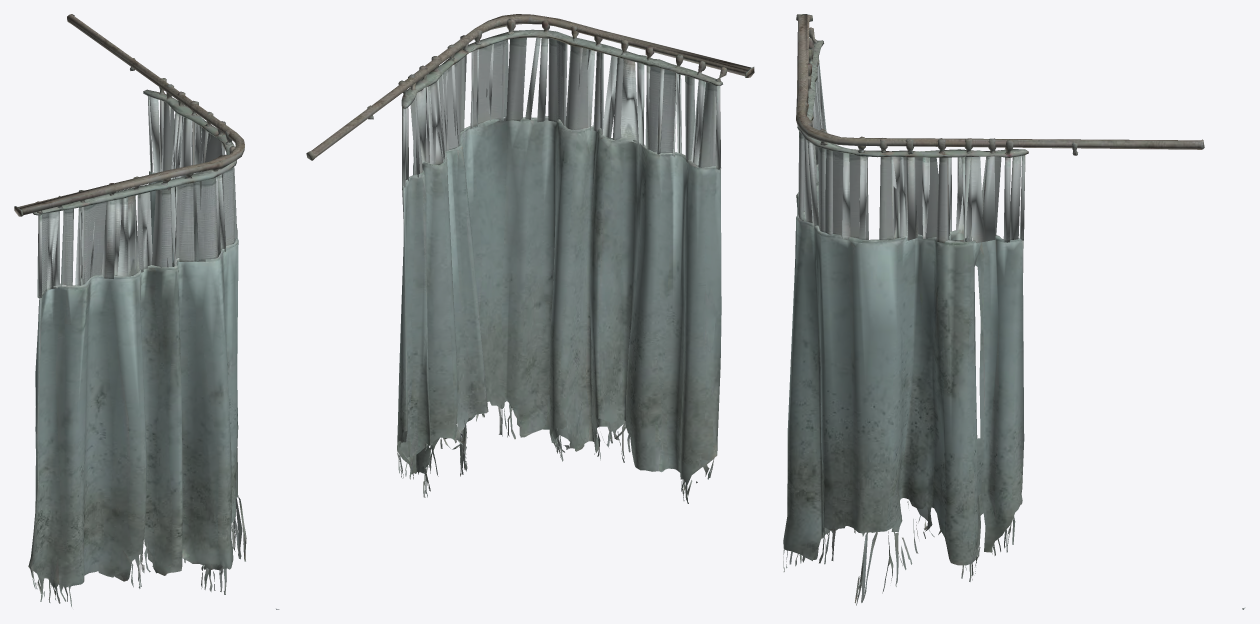
The model's file is curtain.glb.
The picture shows the model from 3 angles, left to right: view 1: azimuth 30°, elevation 25°; view 2: azimuth 150°, elevation 25°; view 3: azimuth 270°, elevation 25°; orthographic projection. The views are drawn at different scales.
Size of the model in its own units: 0.6125 by 1 by 0.9043.
1 material, 1 textured.
